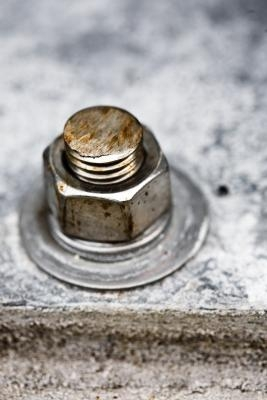bolt_b: (41, 117, 172, 242)
